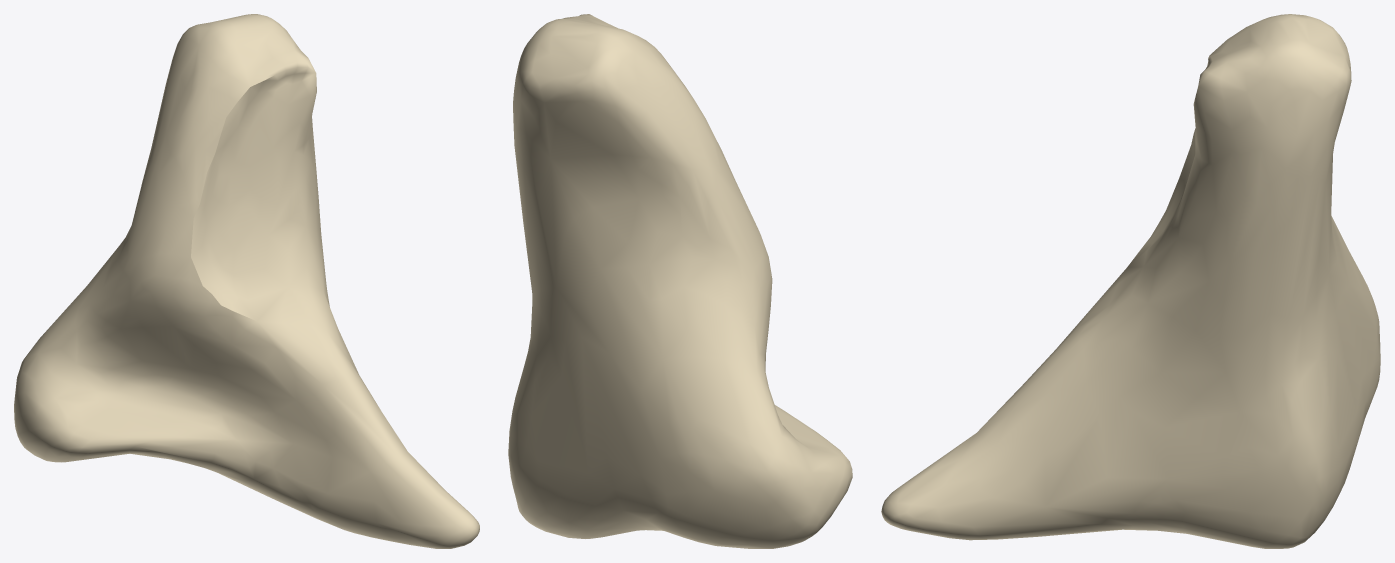
The model's file is esqueleto-arytenoid-cartilage-r.glb.
3 views of the same model, side by side, from view 1: azimuth 30°, elevation 25°; view 2: azimuth 150°, elevation 25°; view 3: azimuth 270°, elevation 25° (orthographic). The views are drawn at different scales.
Visible parts, largest first — view 1: Arytenoid cartilage.r; view 2: Arytenoid cartilage.r; view 3: Arytenoid cartilage.r.
Boxes of the visible parts, <box> form: Arytenoid cartilage.r: <box>14,14,479,548</box>; Arytenoid cartilage.r: <box>508,14,852,548</box>; Arytenoid cartilage.r: <box>881,14,1380,548</box>.
Bounding box in the file's own units: 0.00544 × 0.00807 × 0.00726.
